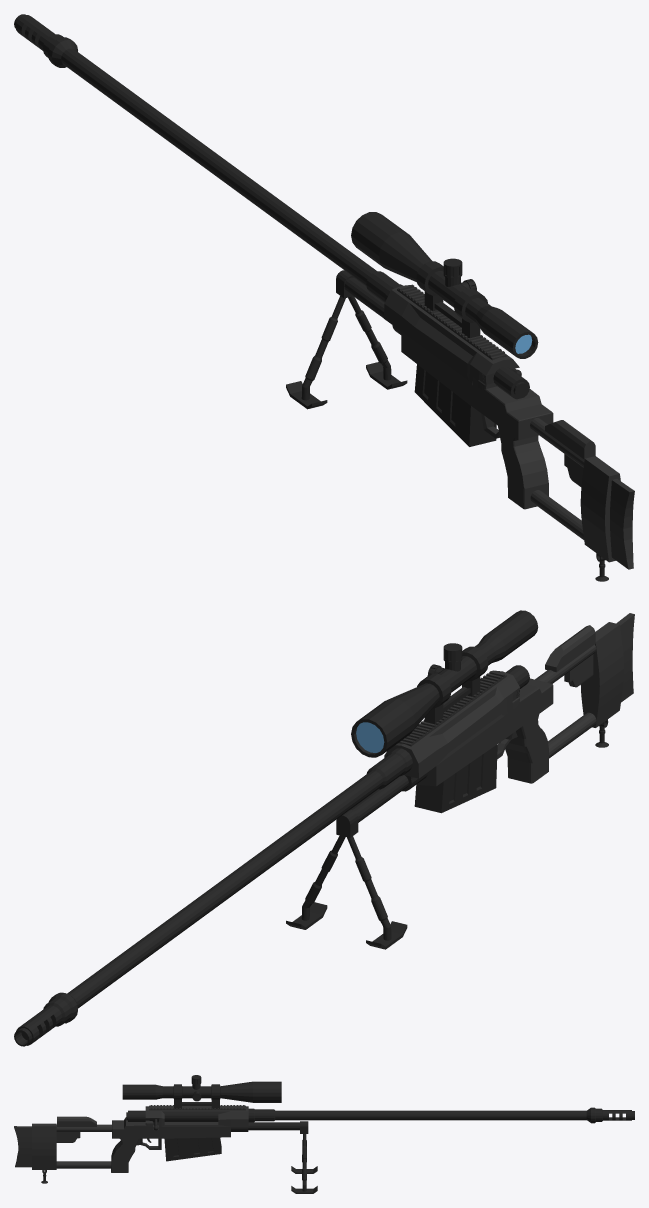
The model's file is SPR-2.fbx.
3 renders of one model, top to bottom at view 1: azimuth 30°, elevation 25°; view 2: azimuth 150°, elevation 25°; view 3: azimuth 270°, elevation 25°, orthographic. The views are drawn at different scales.
Visible parts, largest first — view 1: SPR-2; view 2: SPR-2; view 3: SPR-2.
Part boxes in pixels (box(x1,y1,x2,y2)): SPR-2: box(14, 14, 634, 581); SPR-2: box(14, 610, 634, 1046); SPR-2: box(14, 1075, 634, 1193).
Bounding box in the file's own units: 38.6 × 79.95 × 428.
